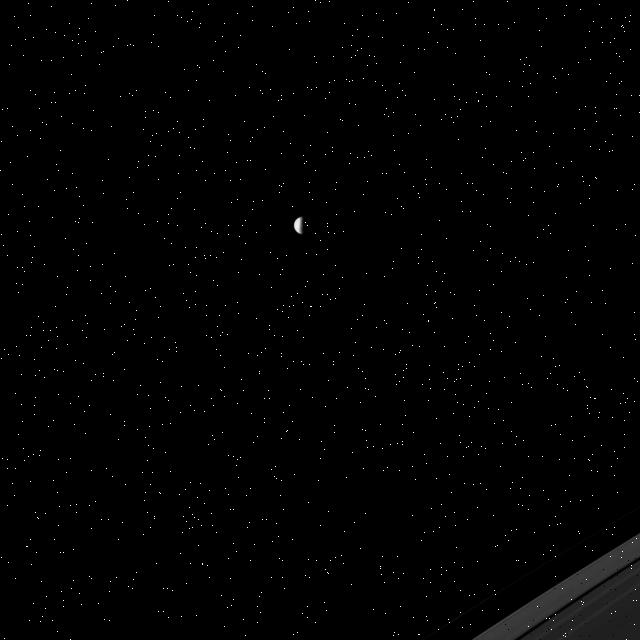Saturn: (409, 492, 640, 640)
